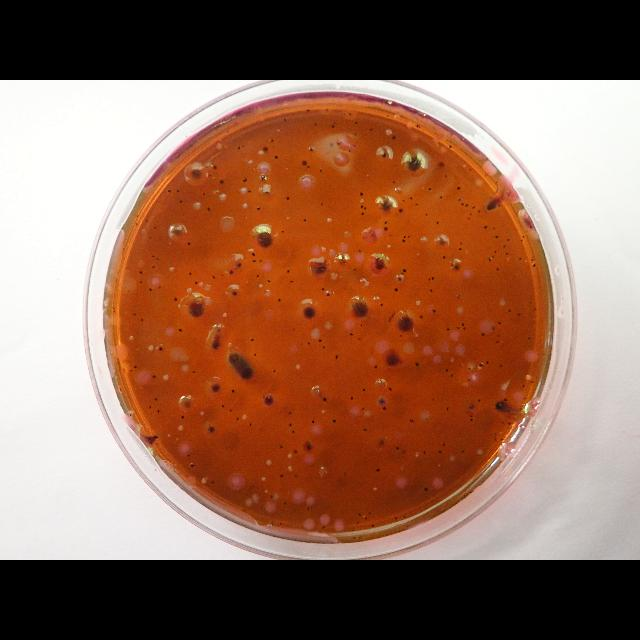colony: (228, 352, 254, 380), (350, 299, 372, 319), (311, 261, 334, 279), (186, 298, 206, 318), (396, 315, 416, 333), (384, 350, 402, 368), (256, 232, 274, 248), (406, 156, 422, 172), (491, 402, 511, 414), (373, 256, 389, 270), (484, 198, 498, 214), (190, 168, 204, 180), (302, 306, 316, 318), (379, 200, 393, 212), (263, 395, 275, 407), (210, 340, 222, 352), (377, 396, 388, 406), (304, 442, 314, 452), (212, 384, 220, 394), (437, 238, 447, 246), (437, 160, 445, 168), (304, 108, 312, 114), (260, 175, 268, 181), (208, 426, 215, 432), (308, 146, 314, 152), (329, 142, 335, 148), (262, 146, 268, 152), (232, 290, 238, 296), (397, 276, 403, 282), (326, 291, 332, 297), (301, 160, 307, 166), (382, 152, 388, 158), (456, 294, 462, 300), (414, 361, 420, 367), (379, 439, 385, 445), (322, 396, 328, 402), (236, 263, 242, 267), (228, 270, 234, 274), (469, 404, 475, 408), (490, 326, 496, 330), (454, 266, 460, 270), (384, 226, 388, 232), (398, 208, 404, 212), (388, 386, 392, 392), (410, 418, 414, 424), (423, 449, 427, 455), (362, 428, 368, 432), (332, 418, 336, 424), (310, 420, 316, 424), (288, 422, 292, 428), (280, 444, 284, 450), (292, 450, 298, 454), (278, 474, 284, 478), (376, 467, 380, 473), (128, 368, 134, 372), (220, 272, 223, 278), (325, 108, 329, 112), (313, 122, 317, 126), (331, 125, 335, 129), (332, 121, 336, 125), (274, 155, 278, 159), (237, 146, 241, 150), (213, 166, 217, 170), (220, 180, 224, 184), (179, 199, 183, 203), (265, 191, 269, 195), (256, 206, 260, 210), (148, 288, 152, 292), (158, 285, 162, 289), (256, 274, 260, 278), (292, 328, 296, 332), (318, 338, 322, 342), (190, 464, 194, 468), (270, 495, 274, 499), (358, 512, 362, 516), (364, 516, 368, 520), (394, 516, 398, 520), (424, 487, 428, 491), (438, 450, 442, 454), (494, 432, 498, 436), (494, 438, 498, 442), (504, 398, 508, 402), (507, 421, 511, 425), (479, 363, 483, 367), (468, 367, 472, 371), (481, 332, 485, 336), (488, 258, 492, 262), (442, 255, 446, 259), (432, 309, 436, 313), (394, 288, 398, 292), (353, 268, 357, 272), (392, 136, 396, 140), (440, 195, 444, 199), (458, 197, 462, 201), (402, 239, 406, 243), (361, 212, 365, 216), (360, 192, 364, 196), (530, 258, 534, 262), (532, 263, 536, 267), (461, 323, 465, 327), (462, 326, 466, 330), (446, 328, 450, 332), (374, 365, 378, 369), (382, 406, 386, 410), (362, 388, 366, 392), (395, 446, 399, 450), (402, 450, 406, 454), (291, 430, 295, 434), (262, 395, 266, 399), (293, 474, 297, 478), (467, 378, 471, 382), (349, 332, 353, 336), (250, 338, 254, 342), (178, 328, 182, 332), (159, 347, 163, 351), (152, 374, 156, 378), (134, 365, 138, 369), (140, 318, 144, 322), (133, 313, 137, 317), (112, 310, 116, 314), (208, 175, 212, 178), (202, 192, 205, 196), (245, 178, 248, 182), (247, 190, 251, 193), (286, 197, 290, 200), (281, 230, 285, 233), (252, 253, 255, 257), (252, 260, 258, 262), (212, 275, 215, 279), (175, 297, 178, 301), (336, 354, 338, 360), (356, 520, 359, 524), (501, 438, 504, 442), (471, 418, 474, 422), (530, 381, 534, 384), (492, 227, 496, 230), (354, 122, 358, 125), (416, 124, 419, 128), (392, 180, 396, 183), (321, 202, 324, 206), (456, 326, 460, 329), (351, 396, 354, 400), (210, 162, 213, 165), (284, 118, 286, 122), (270, 140, 274, 142), (242, 144, 244, 148), (208, 207, 210, 211), (167, 190, 171, 192), (304, 218, 306, 222), (259, 260, 263, 262), (188, 241, 190, 245), (146, 218, 148, 222), (136, 222, 138, 226), (156, 258, 160, 260), (152, 266, 156, 268), (140, 270, 142, 274), (190, 272, 192, 276), (288, 269, 290, 273), (278, 298, 280, 302), (322, 346, 326, 348), (222, 404, 224, 408), (230, 408, 232, 412), (250, 422, 252, 426), (154, 398, 158, 400), (187, 454, 191, 456), (280, 522, 282, 526), (271, 522, 273, 526), (308, 507, 310, 511), (322, 526, 326, 528), (368, 512, 372, 514), (372, 524, 374, 528), (442, 444, 446, 446), (447, 407, 449, 411), (478, 398, 480, 402), (523, 384, 525, 388), (500, 364, 502, 368), (486, 360, 488, 364), (446, 368, 448, 372), (497, 334, 499, 338), (518, 312, 520, 316), (518, 258, 522, 260), (494, 236, 498, 238), (484, 226, 488, 228), (458, 248, 462, 250), (460, 242, 462, 246), (432, 276, 434, 280), (430, 289, 432, 293), (400, 334, 402, 338), (380, 303, 382, 307), (400, 272, 404, 274), (402, 270, 406, 272), (358, 250, 362, 252), (320, 168, 322, 172), (338, 141, 340, 145), (348, 148, 350, 152), (354, 144, 356, 148), (349, 112, 351, 116), (370, 127, 372, 131), (450, 144, 452, 148), (428, 188, 432, 190), (445, 174, 447, 178), (458, 186, 460, 190), (414, 204, 418, 206), (384, 222, 388, 224), (388, 234, 392, 236), (520, 240, 524, 242), (362, 407, 364, 411), (432, 397, 434, 401), (288, 412, 292, 414), (360, 324, 362, 328), (177, 190, 180, 192), (242, 180, 245, 182), (152, 255, 154, 258), (195, 282, 198, 284), (502, 421, 504, 424), (496, 341, 498, 344), (528, 336, 530, 339), (496, 268, 499, 270), (504, 245, 506, 248), (506, 239, 509, 241), (386, 115, 389, 117), (462, 202, 464, 205), (472, 207, 474, 210), (470, 212, 472, 215), (361, 206, 364, 208), (364, 207, 366, 210), (410, 197, 412, 200), (154, 227, 156, 229), (140, 281, 142, 283), (268, 280, 270, 282), (290, 281, 292, 283), (308, 342, 310, 344), (274, 370, 276, 372), (254, 354, 256, 356), (232, 390, 234, 392), (236, 418, 238, 420), (182, 416, 184, 418), (158, 410, 160, 412), (149, 406, 151, 408), (212, 481, 214, 483), (284, 502, 286, 504), (352, 529, 354, 531), (403, 515, 405, 517), (462, 450, 464, 452), (494, 436, 496, 438), (470, 415, 472, 417), (451, 374, 453, 376), (498, 322, 500, 324), (508, 310, 510, 312), (534, 308, 536, 310), (530, 302, 532, 304), (506, 253, 508, 255), (492, 256, 494, 258), (494, 251, 496, 253), (428, 278, 430, 280), (420, 316, 422, 318), (322, 288, 324, 290), (308, 166, 310, 168), (354, 133, 356, 135), (466, 204, 468, 206), (478, 210, 480, 212), (468, 218, 470, 220), (437, 222, 439, 224), (425, 214, 427, 216), (404, 236, 406, 238), (408, 236, 410, 238), (402, 200, 404, 202), (522, 236, 524, 238), (530, 226, 532, 228), (113, 307, 115, 309), (420, 126, 420, 128)
